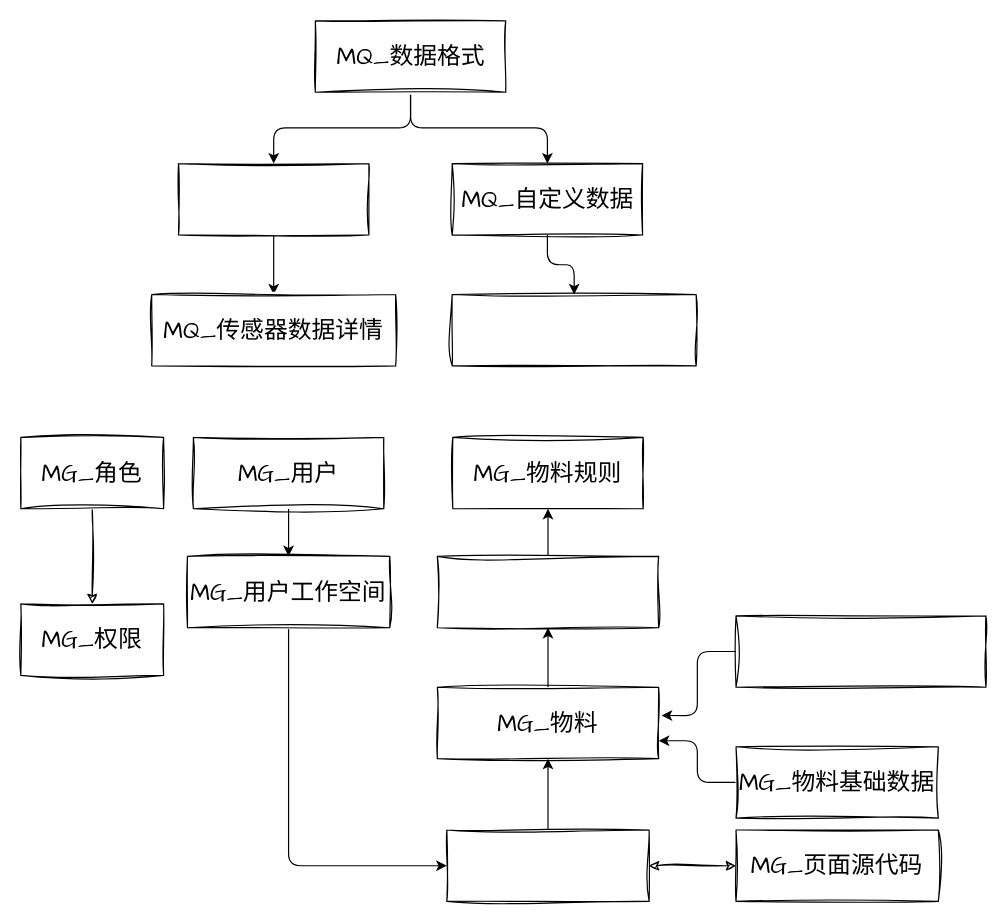
Image size: 1007x922. Some labels were removed from this diagram. The shapes that lost their labels are listed below. From the top down, each one's centre as x and y in pixels, then its label:
At [273,198]: "MQ_传感器数据".
At [573,329]: "MQ_自定义数据详情".
At [547,591]: "MG_物料基本配置".
At [860,651]: "MG_物料样式配置信息".
At [547,865]: "MG_作品信息".
